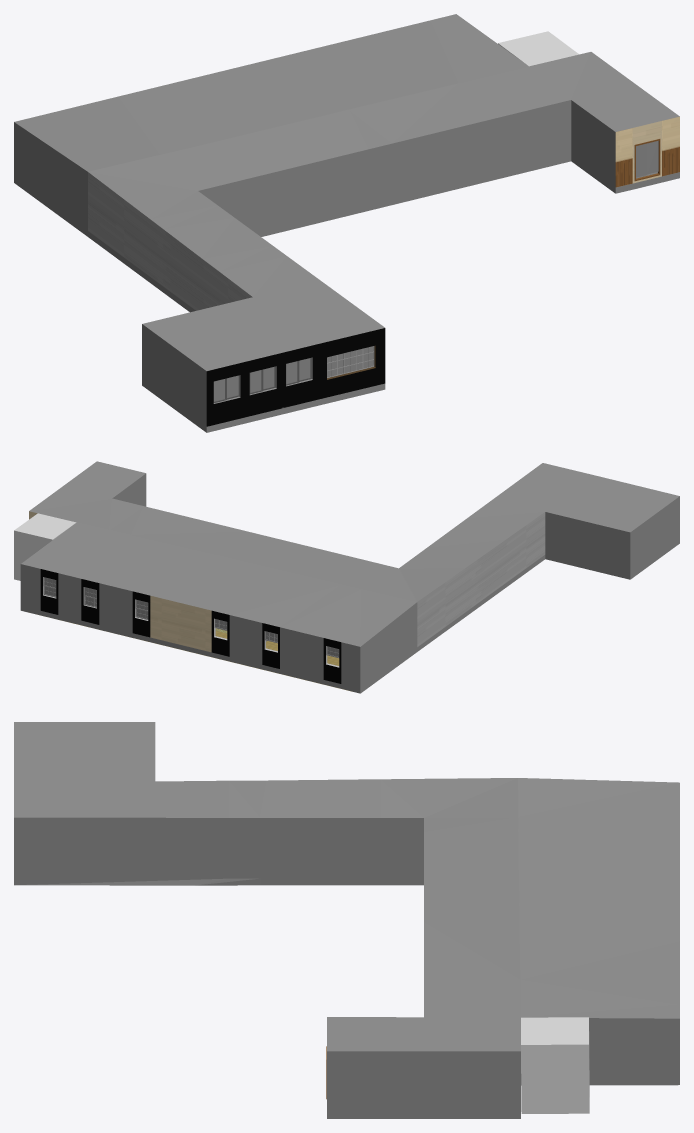
Rendered from provina.FBX.
3 renders of one model, top to bottom at view 1: azimuth 30°, elevation 25°; view 2: azimuth 150°, elevation 25°; view 3: azimuth 270°, elevation 25°, orthographic. The views are drawn at different scales.
Parts seen in each view (by area): view 1: Planimetria, Box001, finestra ufficio012; view 2: Planimetria, Box001; view 3: Planimetria, Box001.
Boxes of the visible parts, left/top/right/bottom form: Planimetria: left=14, top=14, right=679, bottom=432; Box001: left=498, top=31, right=578, bottom=66; finestra ufficio012: left=327, top=346, right=374, bottom=377; Planimetria: left=20, top=461, right=679, bottom=693; Box001: left=14, top=513, right=76, bottom=580; Planimetria: left=14, top=722, right=679, bottom=1118; Box001: left=521, top=1017, right=589, bottom=1113.
Size of the model in its own units: 41.51 by 4.32 by 35.52.
